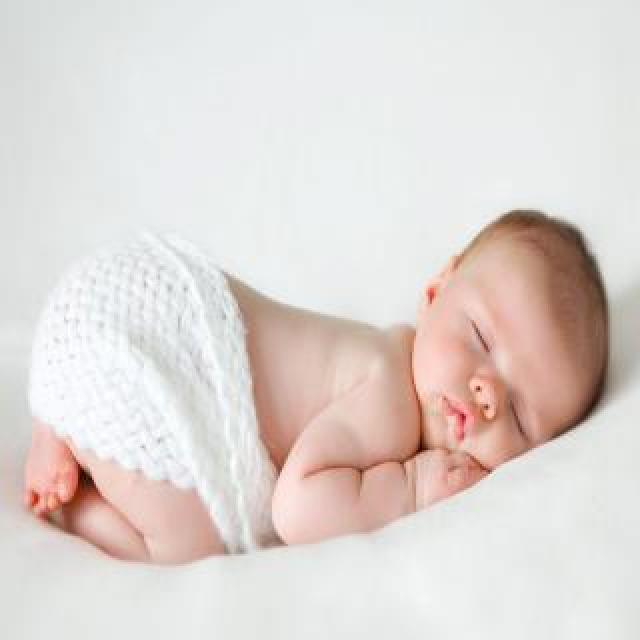baby: (27, 207, 609, 565)
